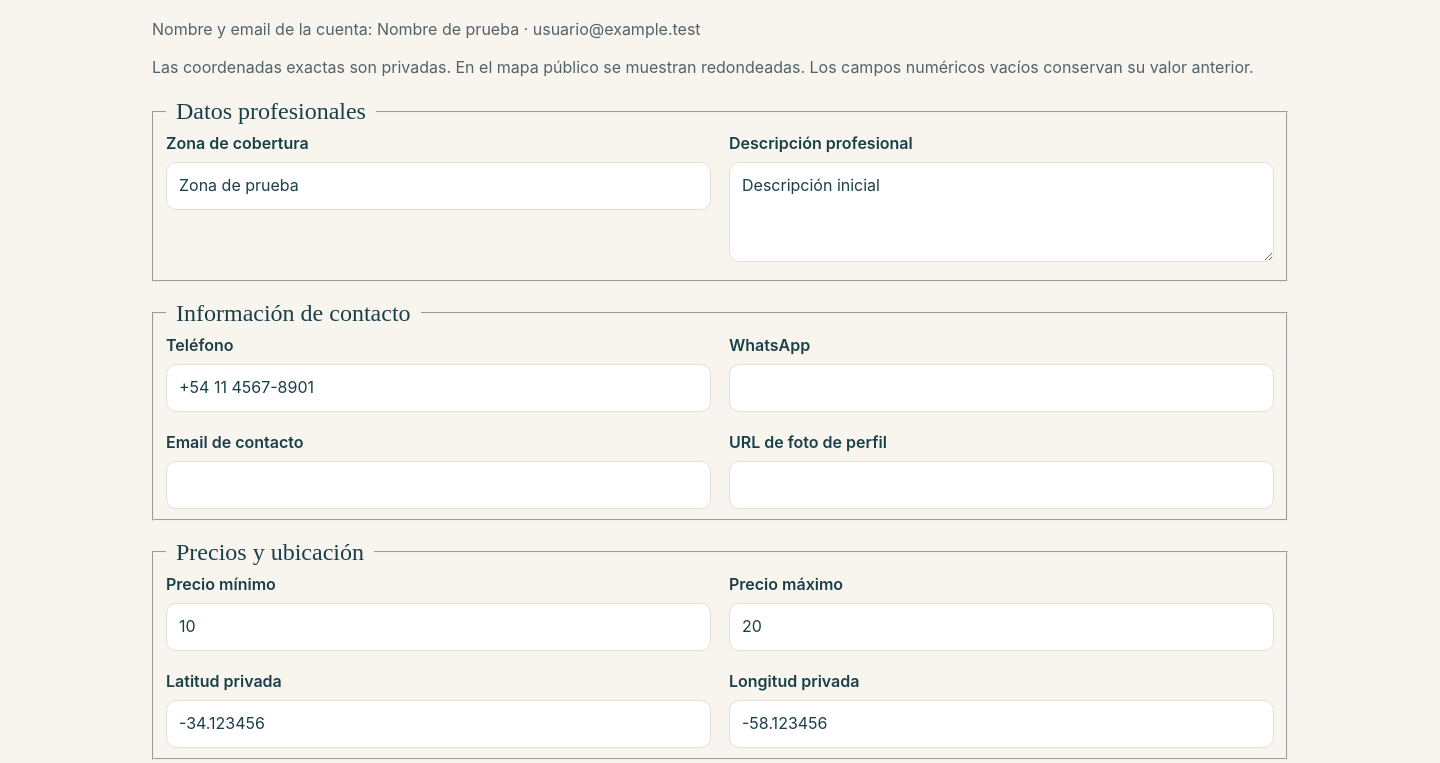
Test: Regresión: PUT de perfil compatible con validarContacto/validarTextos › no intenta borrar un contacto existente con un valor que el backend no admite
The width and height of the screenshot is (1440, 763).
Clear the field labelled "Teléfono" at (438,388), box x1=166 y1=364 x2=711 y2=412
(page scrolled)
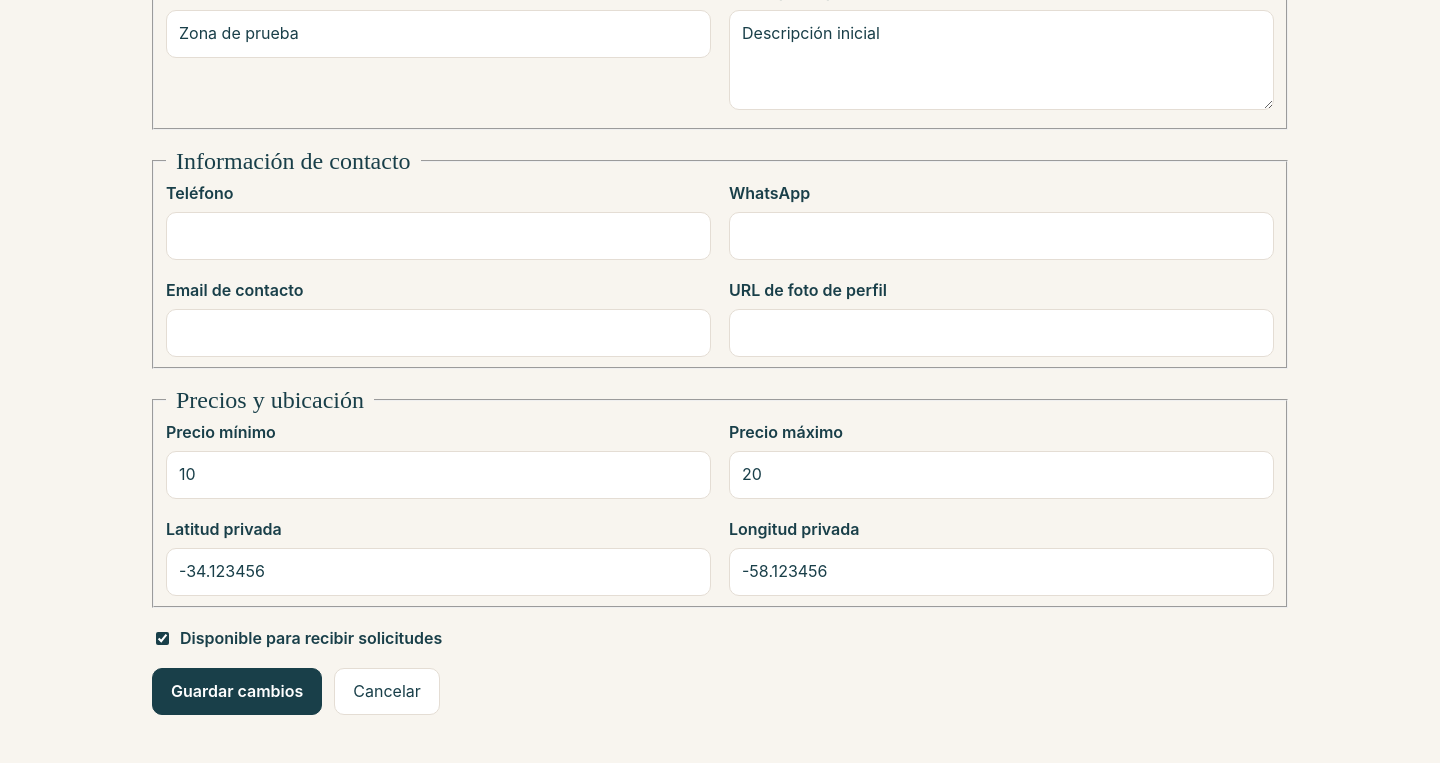
Click the button "Guardar cambios" at (237,691), box x1=152 y1=668 x2=322 y2=715
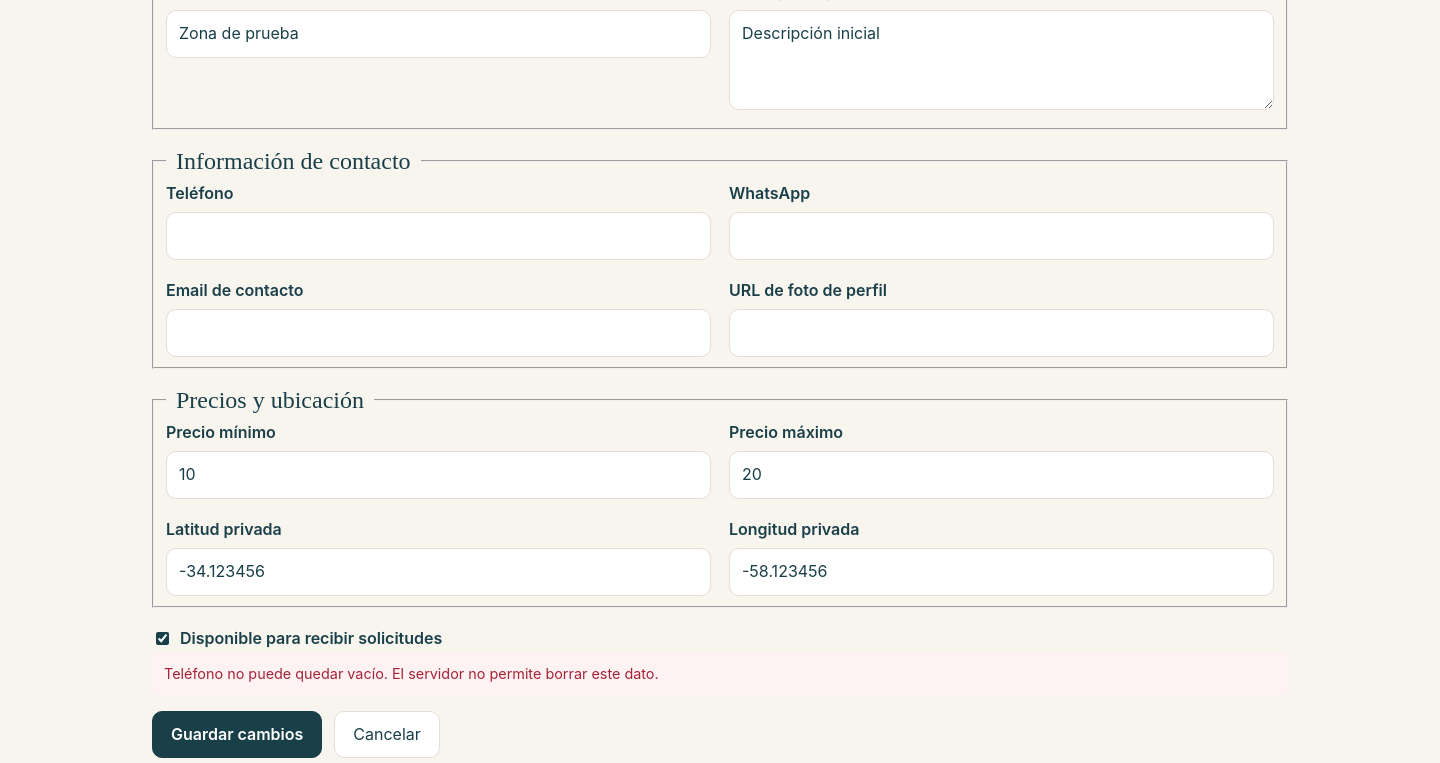
Result: the message shows "Teléfono" at x1=164 y1=664 x2=659 y2=682
